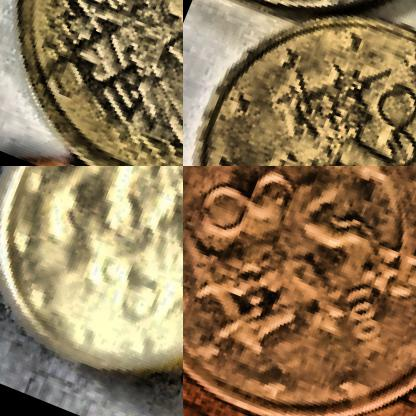coin: (183, 166, 415, 415), (0, 166, 182, 415), (183, 0, 415, 165), (0, 0, 182, 165)
